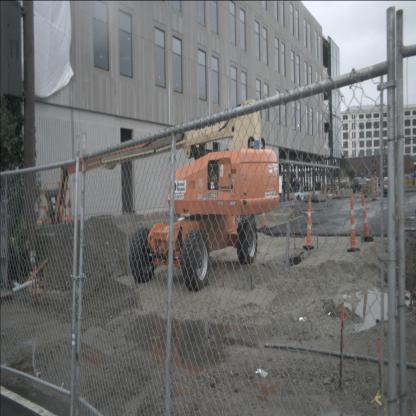movable_object-trafficcone: (346, 195, 361, 252), (390, 189, 404, 240), (361, 189, 374, 242), (303, 194, 315, 250), (260, 186, 268, 232), (371, 181, 377, 201)
